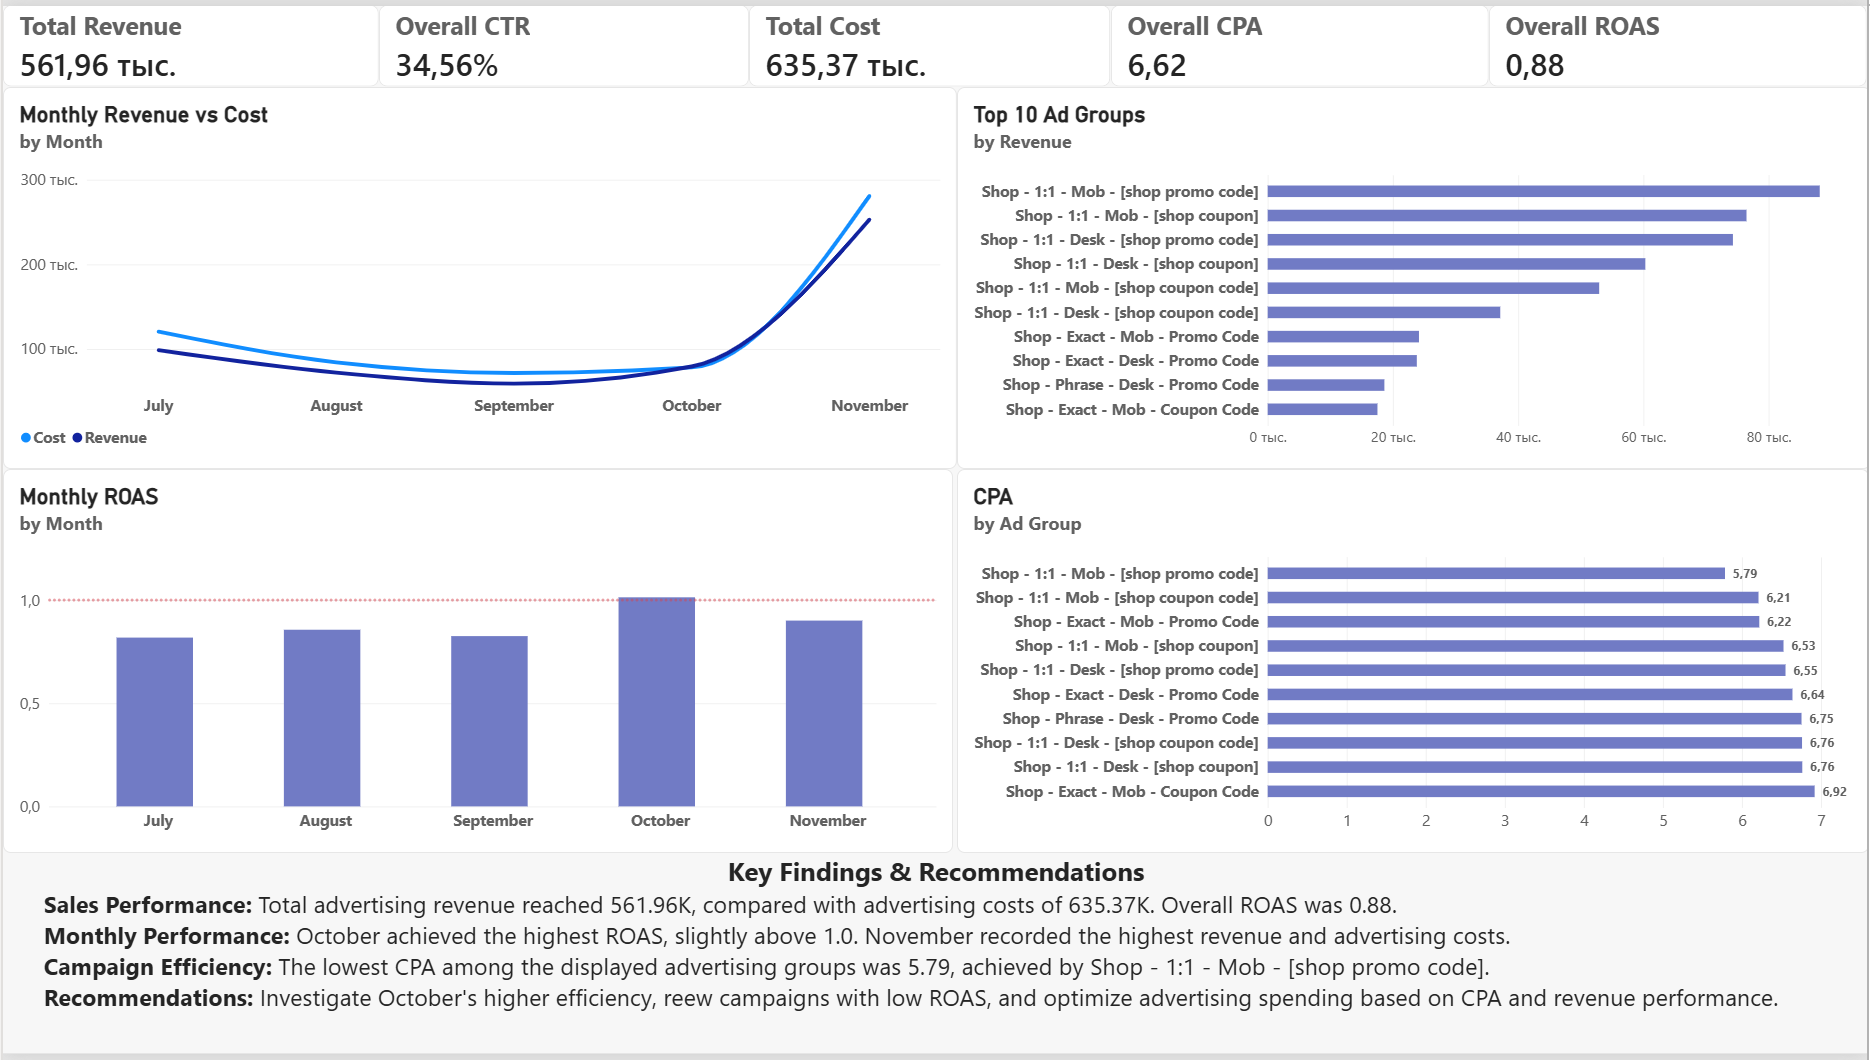

The page's visual inventory and layout, read from the dashboard file:
{"tool":"powerbi","page":{"name":"Страница 1","canvas":[1920,1080],"ordinal":0},"visuals":[{"type":"cardVisual","fields":{"Data":["Sum(monthly_analysis.Total Revenue)"]},"box":[0,0,387.3,84.5],"z":0},{"type":"cardVisual","fields":{"Data":["Sum(monthly_analysis.Total Cost)"]},"box":[768.4,0,372.9,84.5],"z":1000},{"type":"cardVisual","fields":{"Data":["monthly_analysis.Overall ROAS"]},"box":[1530.6,0,389.4,84.5],"z":2000},{"type":"lineChart","title":"Monthly Revenue vs Cost","fields":{"Category":["final_shop_6modata.Month"],"Y":["Sum(final_shop_6modata.Cost)","Sum(final_shop_6modata.Revenue)"]},"box":[0,84.5,982.7,393.5],"z":3000},{"type":"clusteredBarChart","title":"Top 10 Ad Groups","fields":{"Category":["final_shop_6modata.Ad Group"],"Y":["Sum(final_shop_6modata.Revenue)"]},"box":[982.7,84.5,941.5,393.5],"z":4000},{"type":"cardVisual","fields":{"Data":["campaign_analysis.Overall CPA"]},"box":[1141.3,0,389.4,84.5],"z":5000},{"type":"cardVisual","fields":{"Data":["campaign_analysis.Overall CTR"]},"box":[387.3,0,381.1,84.5],"z":6000},{"type":"clusteredColumnChart","title":"Monthly ROAS","fields":{"Category":["final_shop_6modata.Month"],"Y":["final_shop_6modata.Overal ROAS"]},"box":[0,477.9,978.5,395.5],"z":7000},{"type":"clusteredBarChart","title":"CPA ","fields":{"Category":["final_shop_6modata.Ad Group"],"Y":["final_shop_6modata.Overal CPA"]},"box":[982.7,477.9,939.4,395.5],"z":8000},{"type":"textbox","box":[335.8,873.5,1588.3,206],"z":9000},{"type":"slicer","fields":{"Values":["final_shop_6modata.Ad Group"]},"box":[0,892,370.8,187.5],"z":9001}]}

Visuals, with their boxes in screenshot pixels (x1, y1, x2, y2), scaled from the page's 1920x1080 canvas onto the 1870x1060 screenshot:
cardVisual - Sum(monthly_analysis.Total Revenue): [left=0, top=0, right=377, bottom=83]
cardVisual - Sum(monthly_analysis.Total Cost): [left=748, top=0, right=1112, bottom=83]
cardVisual - monthly_analysis.Overall ROAS: [left=1491, top=0, right=1869, bottom=83]
"Monthly Revenue vs Cost" lineChart: [left=0, top=83, right=957, bottom=469]
"Top 10 Ad Groups" clusteredBarChart: [left=957, top=83, right=1869, bottom=469]
cardVisual - campaign_analysis.Overall CPA: [left=1112, top=0, right=1491, bottom=83]
cardVisual - campaign_analysis.Overall CTR: [left=377, top=0, right=748, bottom=83]
"Monthly ROAS" clusteredColumnChart: [left=0, top=469, right=953, bottom=857]
"CPA " clusteredBarChart: [left=957, top=469, right=1869, bottom=857]
textbox: [left=327, top=857, right=1869, bottom=1059]
slicer - final_shop_6modata.Ad Group: [left=0, top=875, right=361, bottom=1059]
